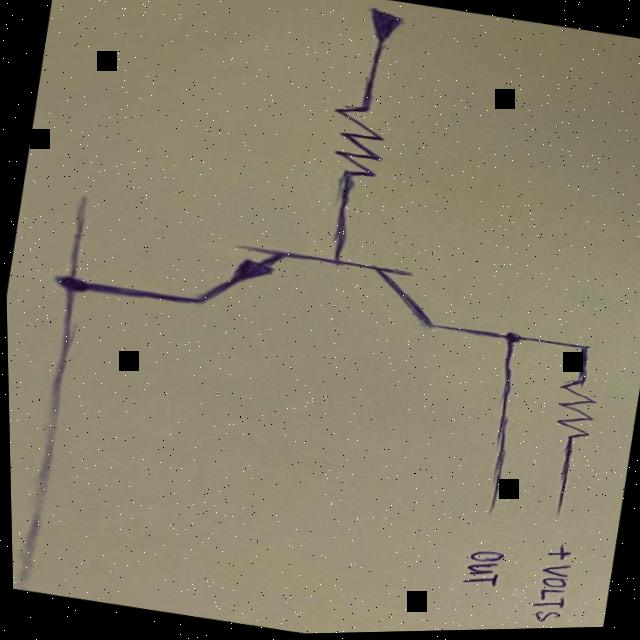junction: (37, 259, 107, 312), (489, 326, 538, 352), (575, 343, 594, 354)
resistor: (314, 92, 396, 187), (542, 371, 610, 448)
terminal: (353, 0, 423, 54), (10, 551, 42, 590), (71, 189, 97, 211), (545, 502, 570, 523), (477, 498, 500, 520)
text: (521, 559, 581, 631), (449, 543, 514, 595), (538, 542, 581, 566)
transistor: (175, 226, 449, 357)
